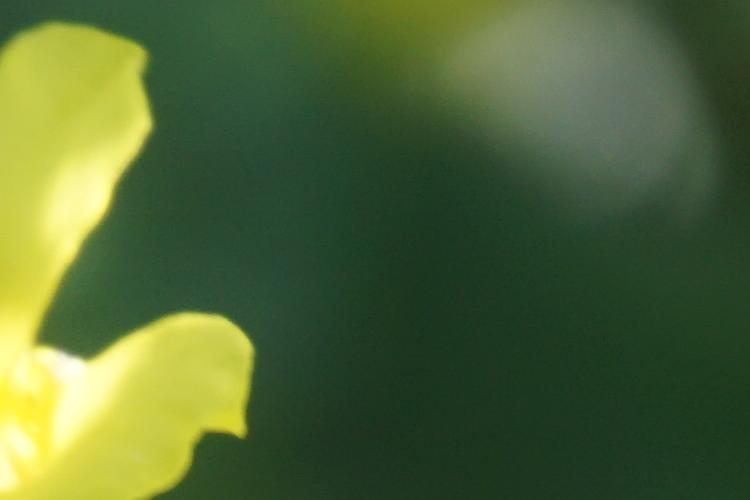yellow: (2, 23, 253, 490)
